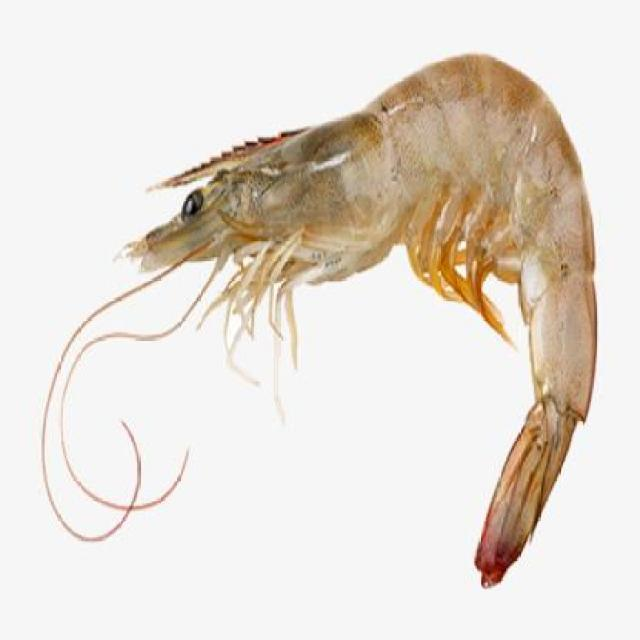shrimp: (110, 41, 604, 599)
